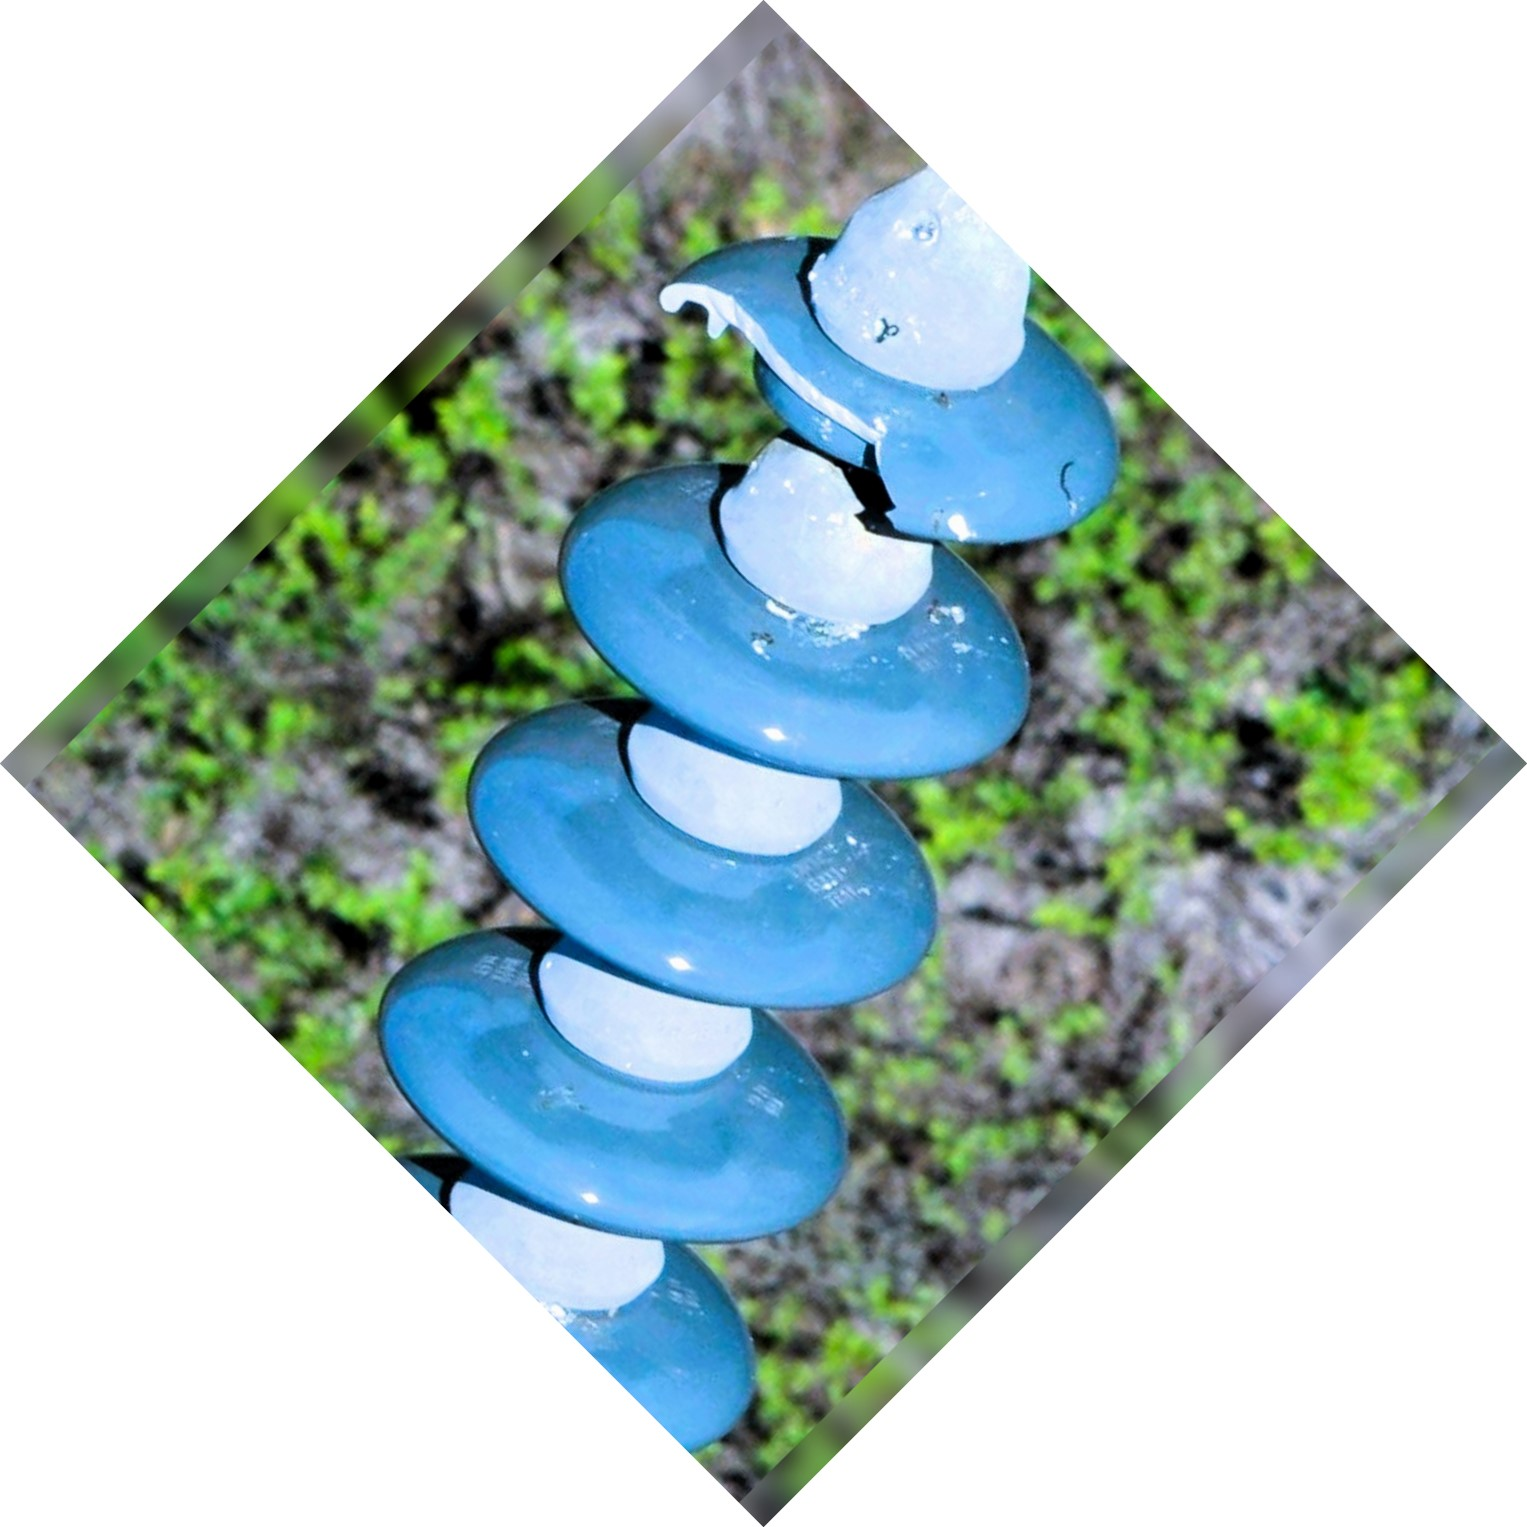insulator breakage: (659, 235, 1141, 562)
